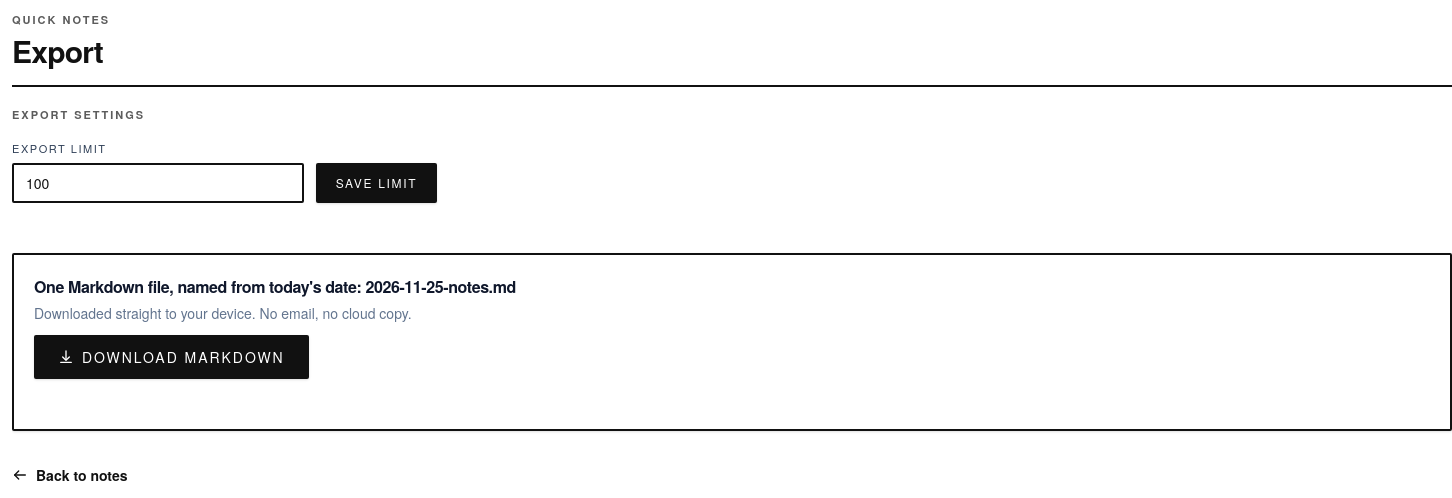
Test case: Export screen — download › [AC-015] tells the visitor there is nothing to export and forces no file when there are no notes
Click the button with test id "download-markdown-btn": coordinates (171, 357) [34,335,309,379]
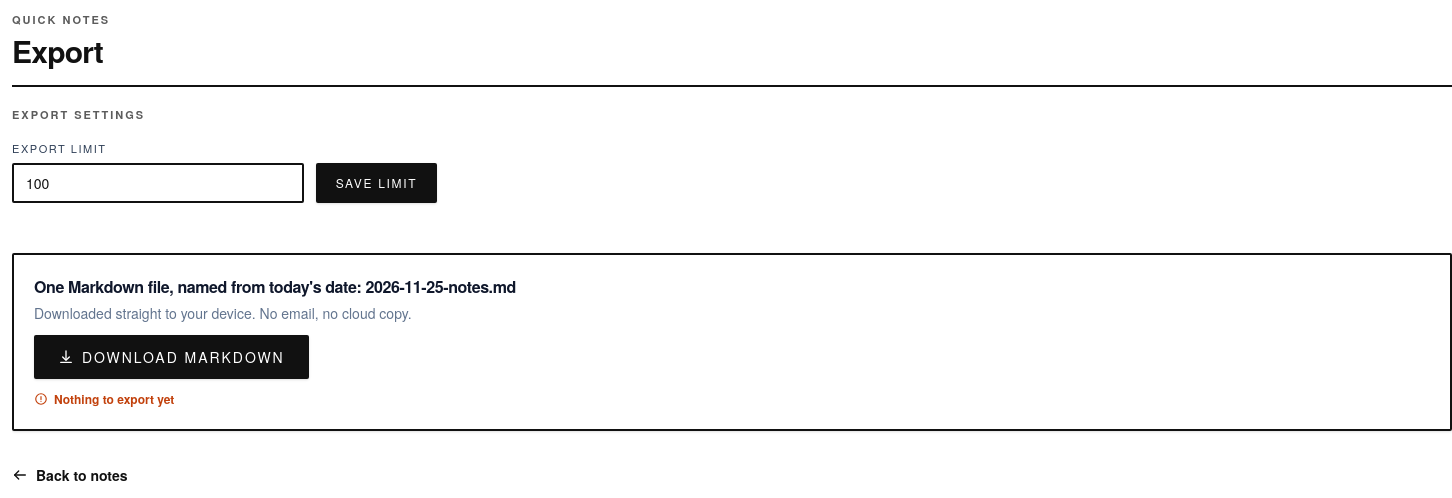
Expected: the text "Nothing to export yet" is shown, [34,391,174,407]
